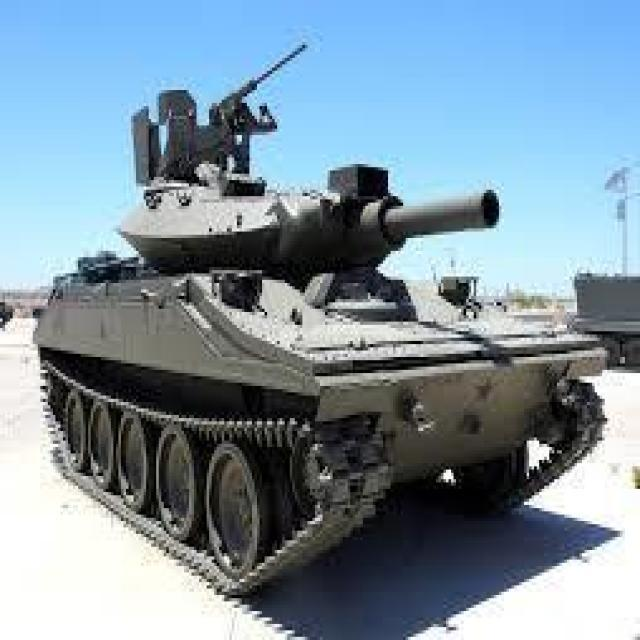MIL_MBT: (38, 220, 567, 597)
